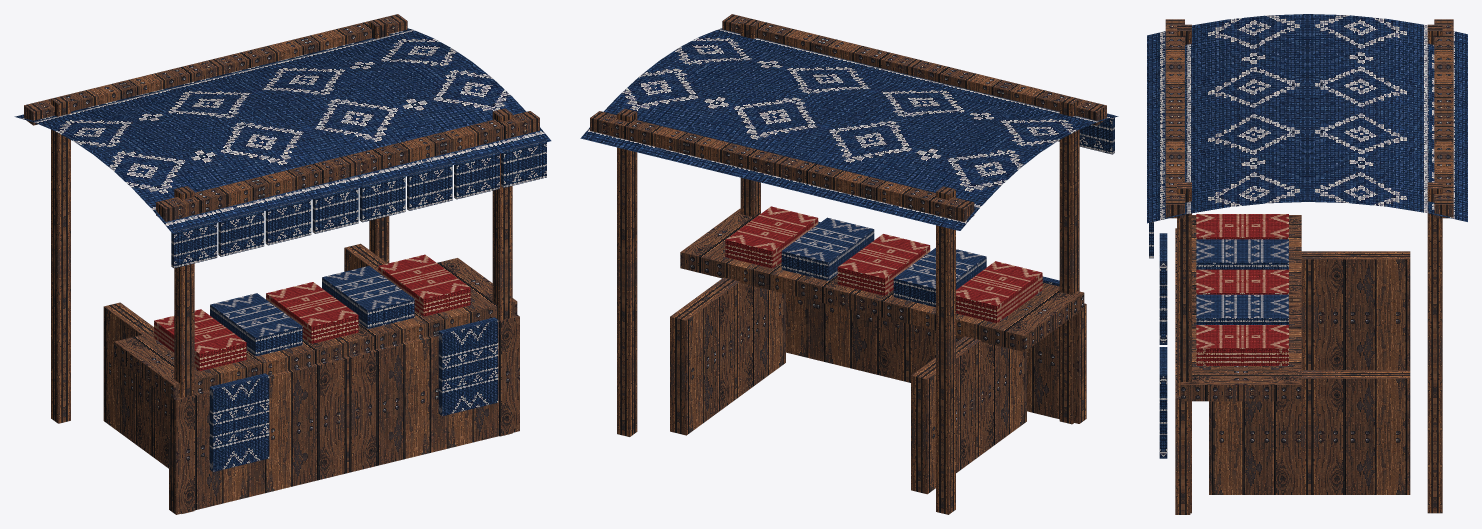
File: cloth_stall.glb
3 views of the same model, side by side, from view 1: azimuth 30°, elevation 25°; view 2: azimuth 150°, elevation 25°; view 3: azimuth 270°, elevation 25° (orthographic).
Visible parts, largest first — view 1: cloth_stall_canal_indigo, cloth_stall_canal_wood, cloth_stall_canal_red; view 2: cloth_stall_canal_wood, cloth_stall_canal_indigo, cloth_stall_canal_red; view 3: cloth_stall_canal_indigo, cloth_stall_canal_wood, cloth_stall_canal_red.
Part boxes in pixels (<box>): cloth_stall_canal_indigo: <box>14,28,551,471</box>; cloth_stall_canal_wood: <box>24,14,539,514</box>; cloth_stall_canal_red: <box>154,254,470,371</box>; cloth_stall_canal_wood: <box>590,14,1106,514</box>; cloth_stall_canal_indigo: <box>580,28,1118,307</box>; cloth_stall_canal_red: <box>725,206,1042,323</box>; cloth_stall_canal_indigo: <box>1147,14,1467,458</box>; cloth_stall_canal_wood: <box>1165,19,1453,514</box>; cloth_stall_canal_red: <box>1196,214,1288,365</box>.
Size of the model in its own units: 2.98 by 2.4 by 2.15.
Materials: 3 (3 with a texture image).
